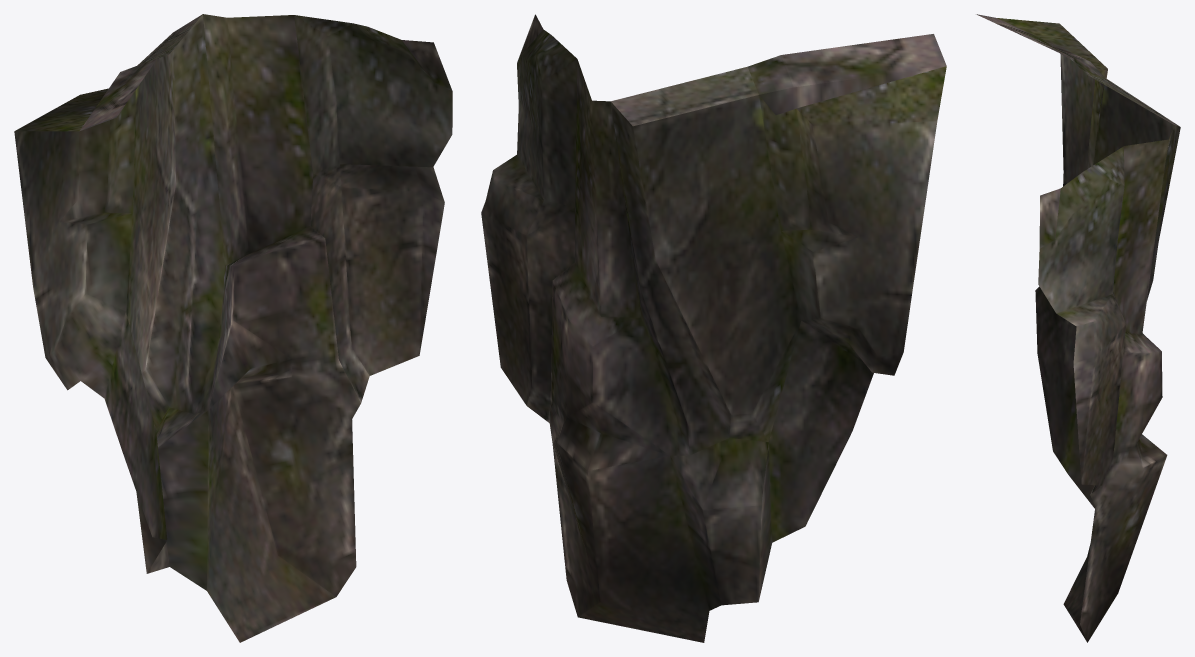
File: S2_Build_XSC077_H4.FBX
3 views of the same model, side by side, from view 1: azimuth 30°, elevation 25°; view 2: azimuth 150°, elevation 25°; view 3: azimuth 270°, elevation 25° (orthographic). The views are drawn at different scales.
Visible parts, largest first — view 1: S2_Build_XSC077_H4; view 2: S2_Build_XSC077_H4; view 3: S2_Build_XSC077_H4.
Boxes of the visible parts, box(x1,y1,x2,y2) form: S2_Build_XSC077_H4: box(14, 14, 452, 642); S2_Build_XSC077_H4: box(481, 14, 946, 642); S2_Build_XSC077_H4: box(976, 14, 1180, 642).
Size of the model in its own units: 3323 by 4385 by 1580.
